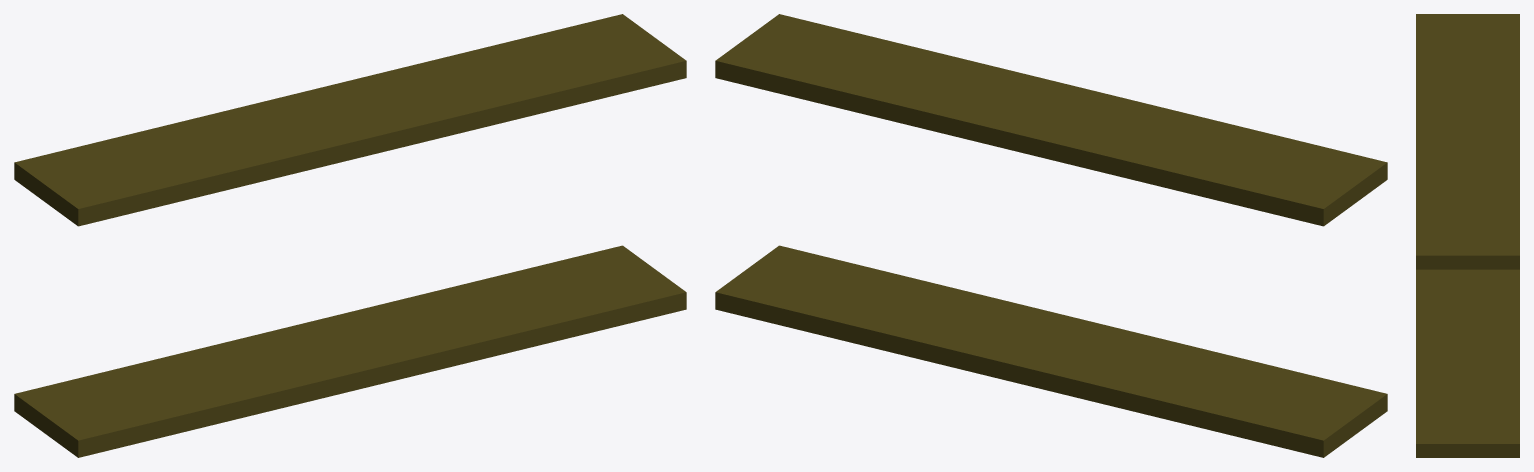
File: Secret_carbinet.fbx
The picture shows the model from 3 angles, left to right: view 1: azimuth 30°, elevation 25°; view 2: azimuth 150°, elevation 25°; view 3: azimuth 270°, elevation 25°; orthographic projection. The views are drawn at different scales.
Parts seen in each view (by area): view 1: Group1, Group2; view 2: Group1, Group2; view 3: Group1, Group2.
Part boxes in pixels (x1,y1,x2,y2): Group1: (14, 14, 686, 226); Group2: (14, 245, 686, 457); Group1: (715, 14, 1387, 226); Group2: (715, 245, 1387, 457); Group1: (1416, 14, 1519, 269); Group2: (1416, 269, 1519, 457).
Bounding box in the file's own units: 1100 × 430 × 200.
